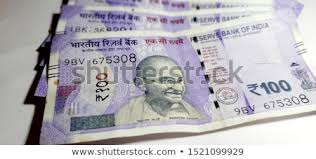hundred: (60, 45, 305, 114)
